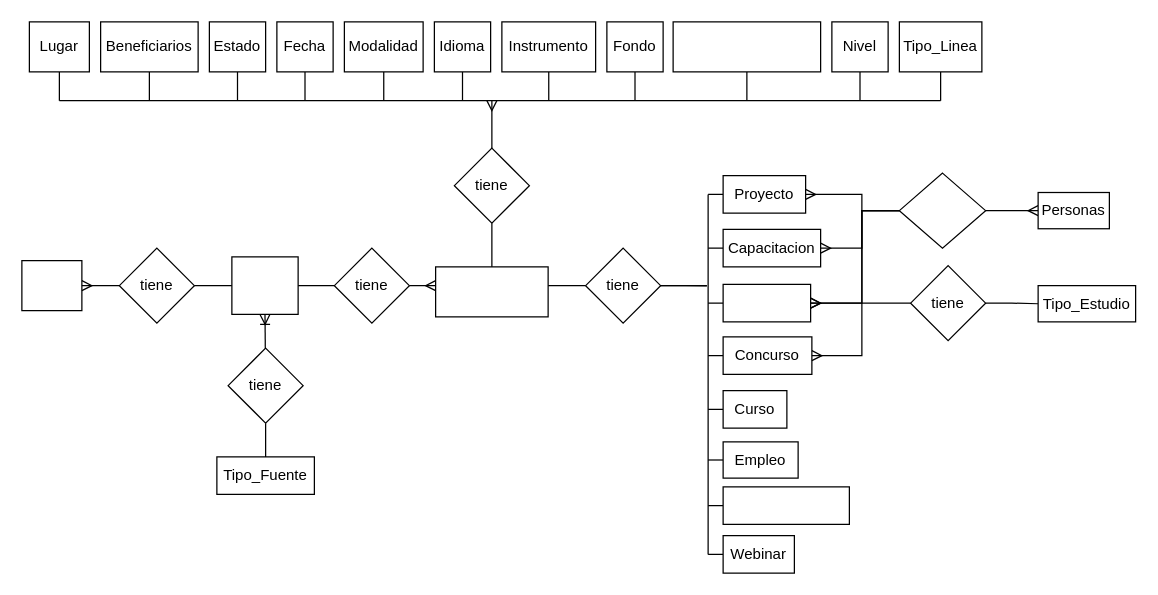
This 1158x595 diagram has some shape labels left out. Here are the shapes that lost their labels. From the top down, the centre of each, then its label:
[746,46]: Area_Conocimiento
[942,210]: participan
[51,285]: Sector
[264,285]: Fuente
[491,291]: Lineas
[766,302]: Publicacion
[785,505]: Noticia/Novedad
